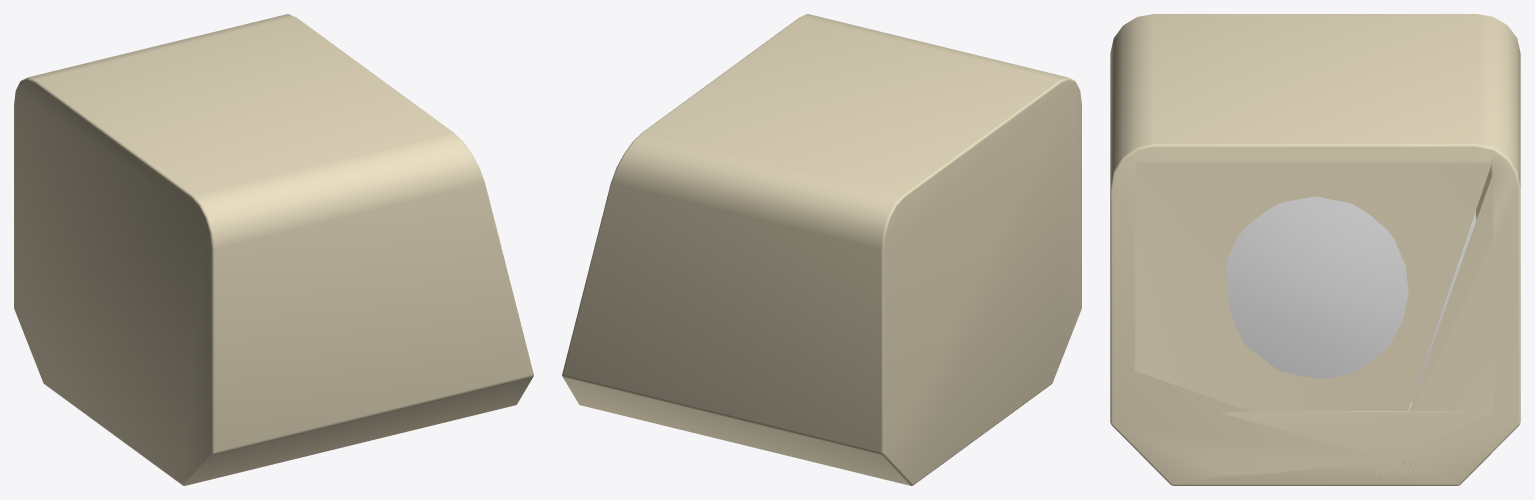
File: CompuTaduralacosa.fbx
The picture shows the model from 3 angles, left to right: view 1: azimuth 30°, elevation 25°; view 2: azimuth 150°, elevation 25°; view 3: azimuth 270°, elevation 25°; orthographic projection. The views are drawn at different scales.
Visible parts, largest first — view 1: Computer; view 2: Computer; view 3: Computer, Screen.
Boxes of the visible parts, x1,y1,x2,y2 form: Computer: (14, 14, 533, 485); Computer: (562, 14, 1081, 485); Computer: (1110, 14, 1520, 485); Screen: (1225, 196, 1476, 402).
Bounding box in the file's own units: 193 × 164 × 200.
